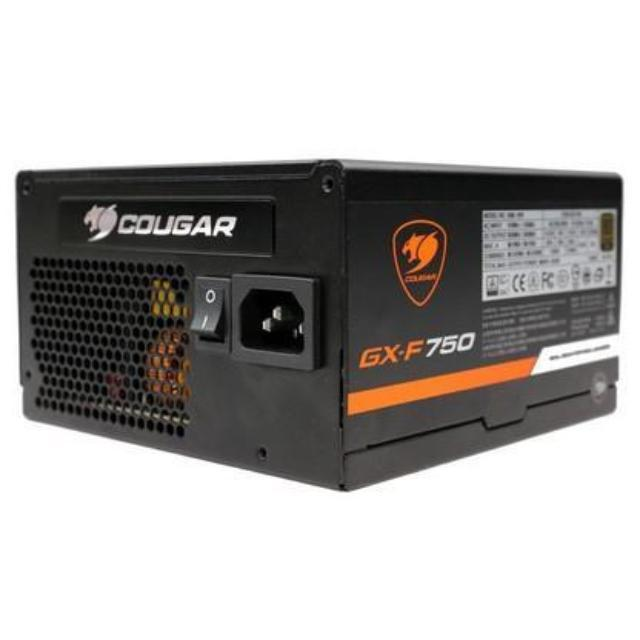PSU: (6, 144, 626, 496)
